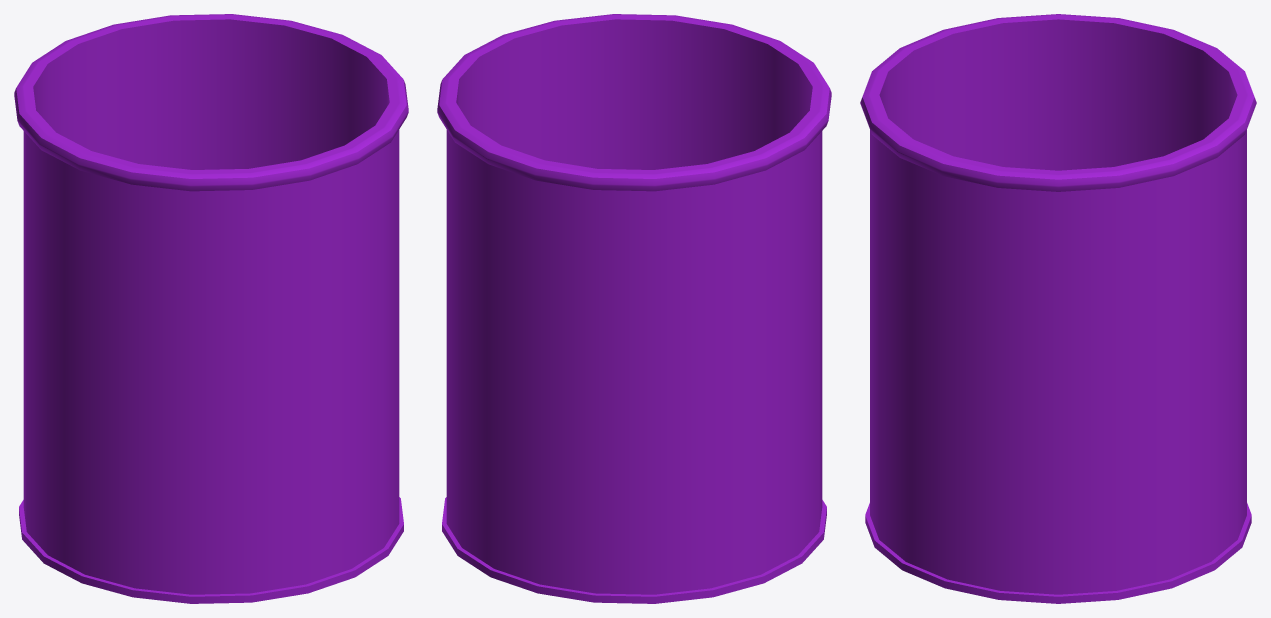
The model's file is Pencil holder.fbx.
3 views of the same model, side by side, from view 1: azimuth 30°, elevation 25°; view 2: azimuth 150°, elevation 25°; view 3: azimuth 270°, elevation 25° (orthographic).
Parts seen in each view (by area): view 1: Pencil holder; view 2: Pencil holder; view 3: Pencil holder.
Boxes of the visible parts, left/top/right/bottom form: Pencil holder: left=14, top=14, right=408, bottom=603; Pencil holder: left=437, top=14, right=831, bottom=603; Pencil holder: left=860, top=14, right=1256, bottom=603.
Size of the model in its own units: 8.4 by 10 by 8.4.
